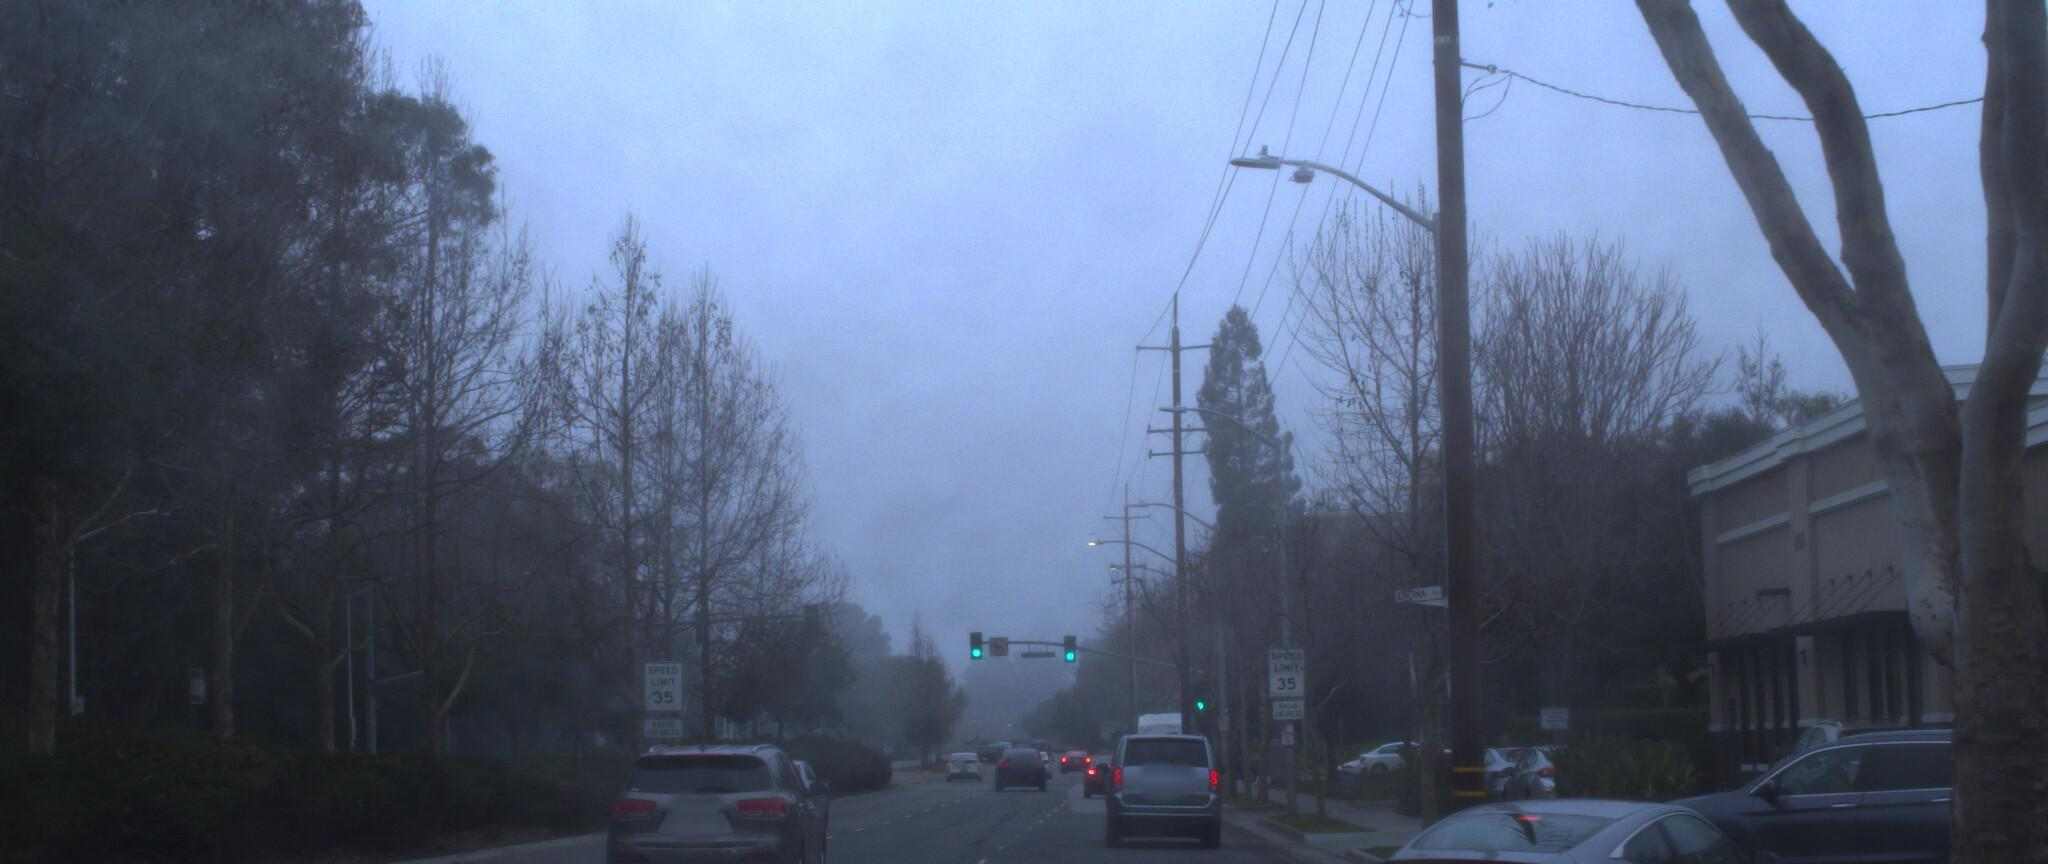car: (1588, 706, 2048, 864), (1266, 767, 1853, 864), (580, 726, 839, 864), (1100, 727, 1234, 844)
